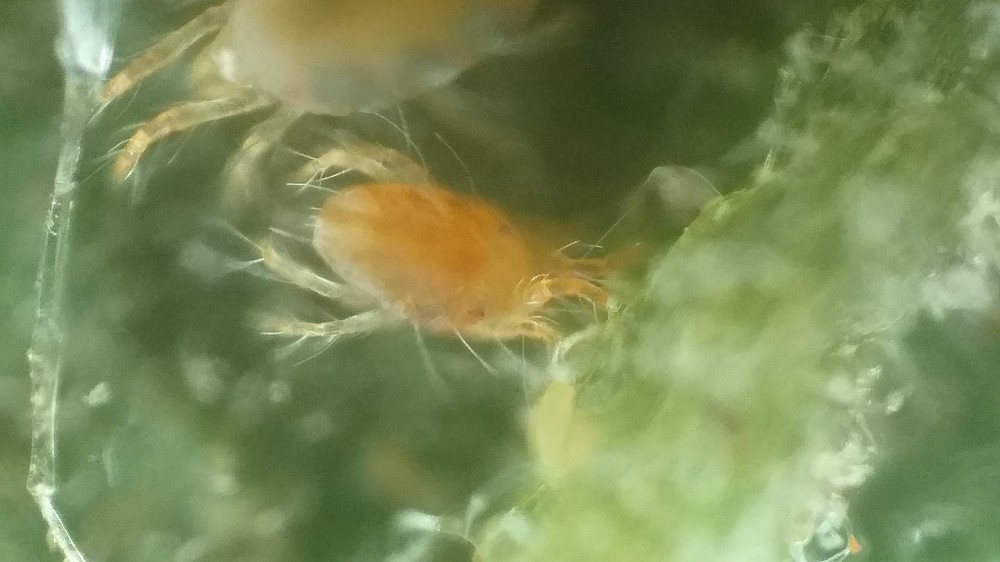Aracnido Rojo: (85, 3, 628, 194), (256, 141, 675, 379)
